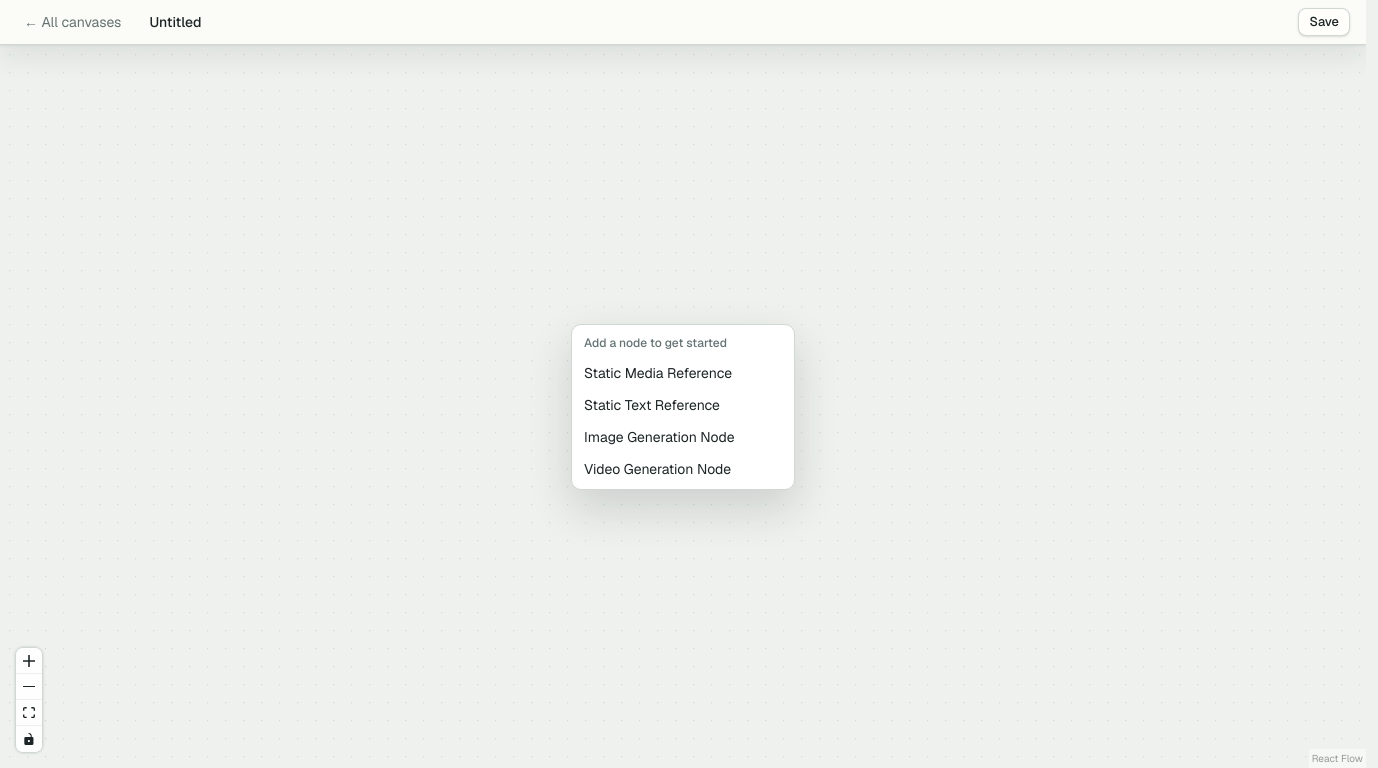
Test: CanvasEditor add-node menu › adds a Static Text Reference node when picked from the empty-canvas menu
Click the menu item "Static Text Reference": (683, 404) [576,388,790,420]
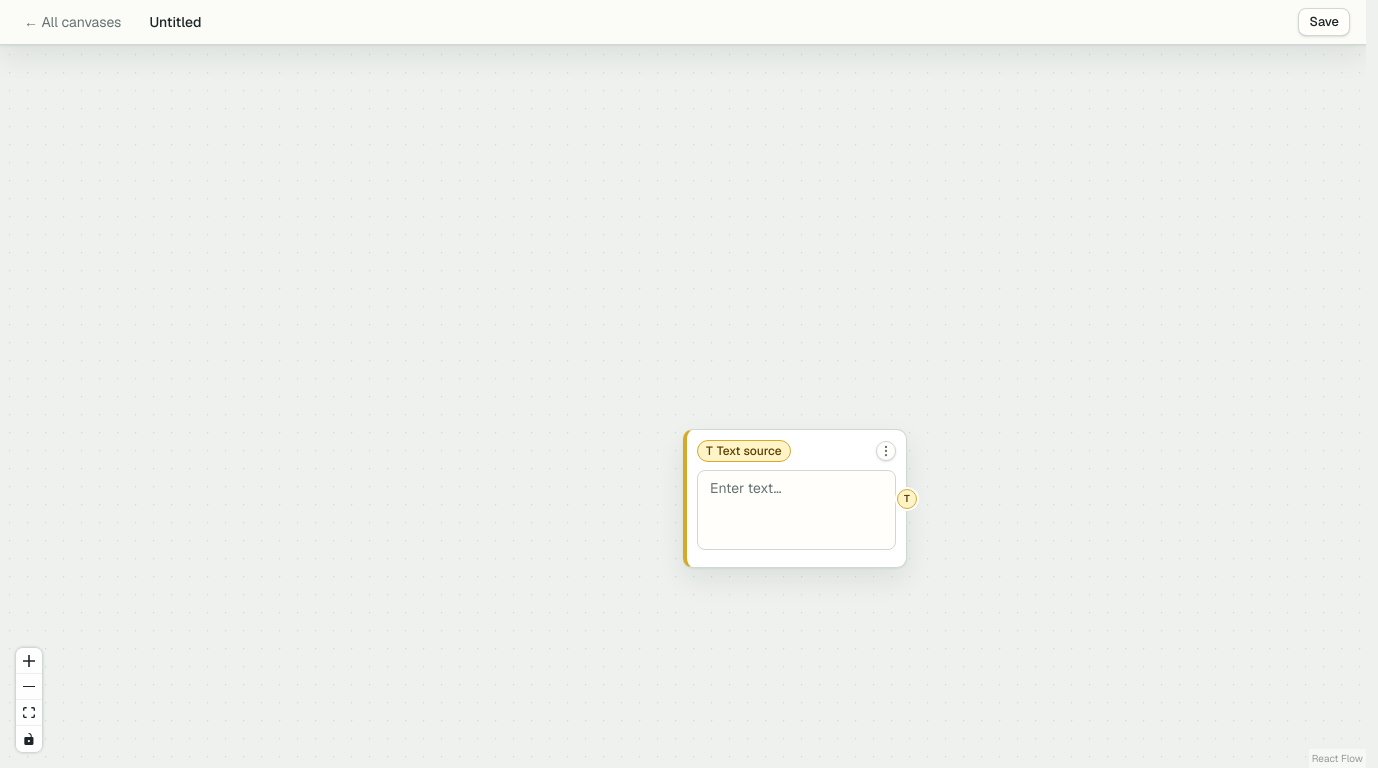
Check: the text box with placeholder "Enter text…" is shown, box [697,470,896,550]
